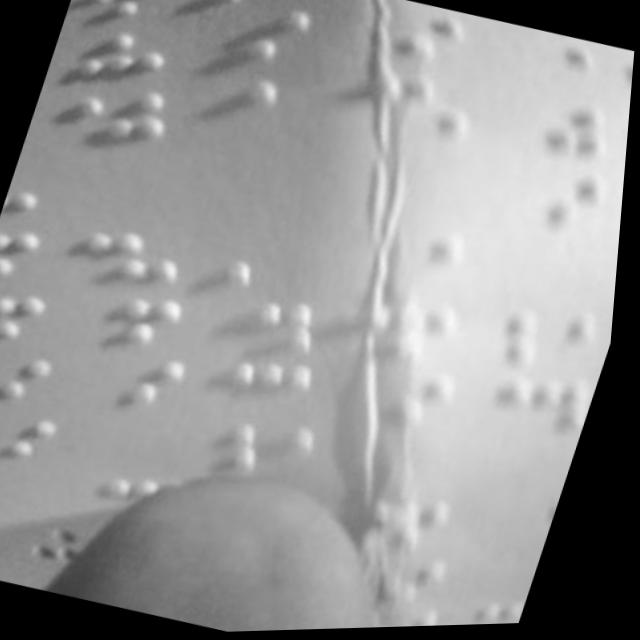braiile: (194, 0, 325, 83), (496, 92, 624, 176), (497, 300, 620, 386), (78, 340, 198, 426), (213, 349, 335, 433), (499, 163, 622, 246), (75, 211, 195, 296), (489, 367, 604, 450), (81, 280, 199, 360), (217, 287, 335, 366), (196, 66, 308, 147), (0, 402, 77, 479), (0, 340, 65, 417), (0, 281, 60, 357), (65, 0, 182, 34), (0, 223, 57, 288)
